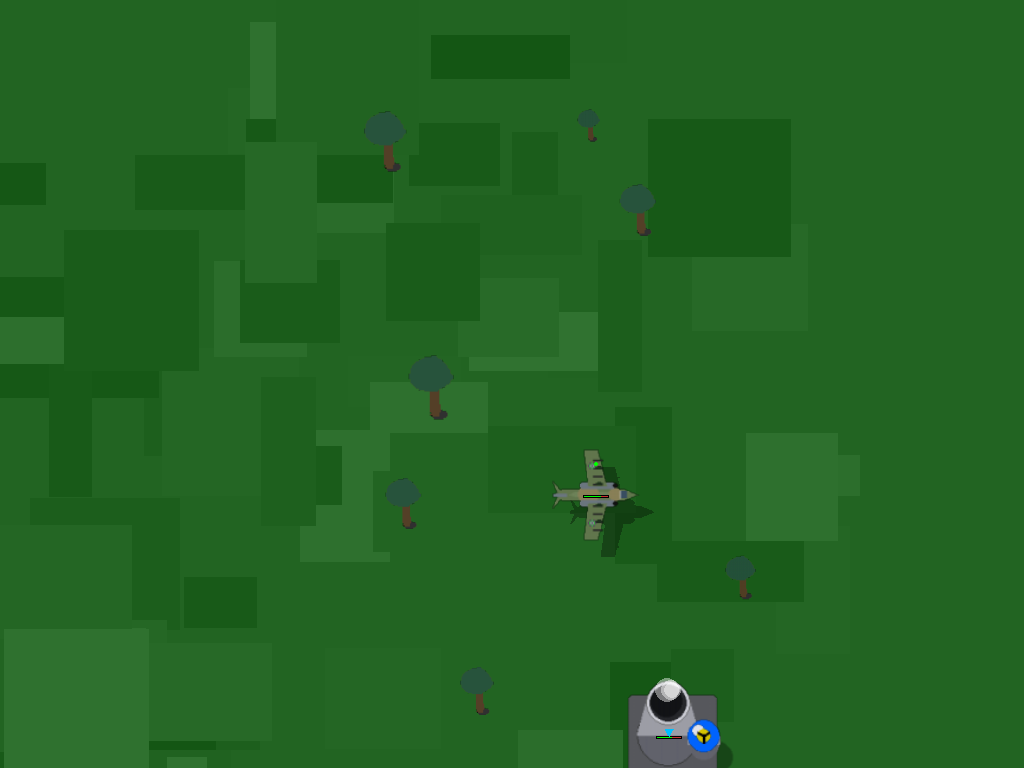AttackPlane_rus: (568, 466, 624, 522)
PowerPlant: (632, 698, 705, 768)
